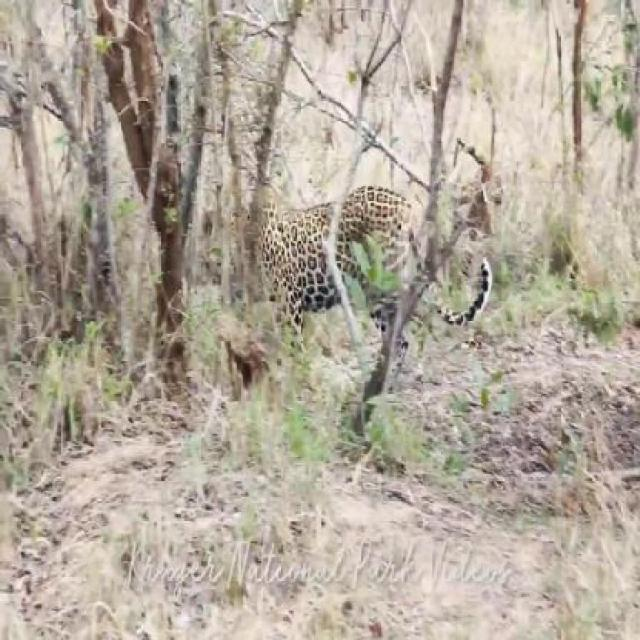Leopard: (205, 175, 523, 434)
